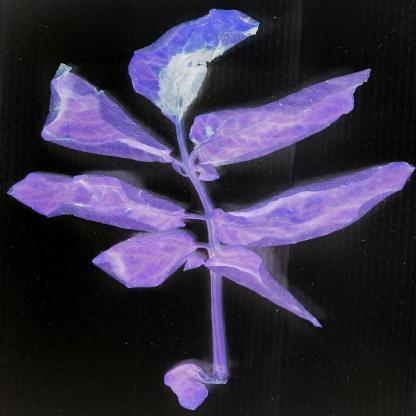Potato leaf: (192, 66, 376, 170), (126, 4, 264, 128), (42, 62, 178, 165)
